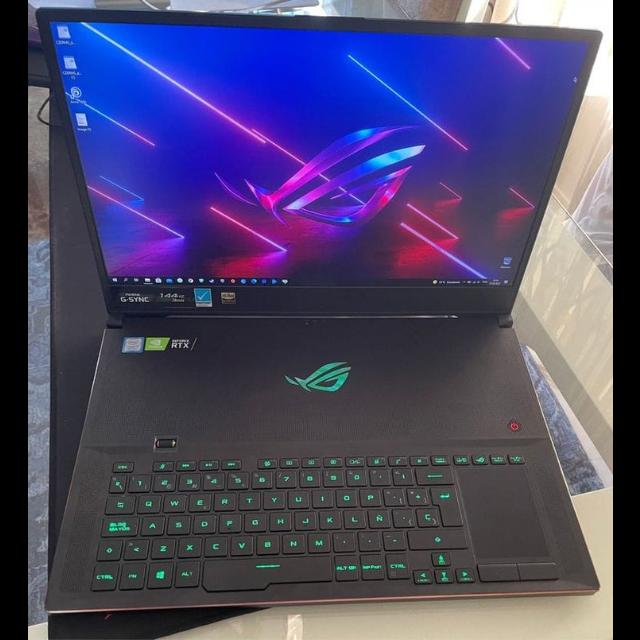laptop: (31, 11, 597, 593)
